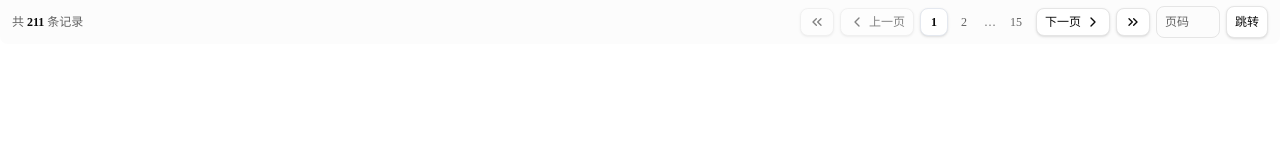
Test: TablePagination 客户端模式（跳页） › 越界页码 999 提交后 clamp 到末页，并显示可见的 aria-live 提示
Type "999" into the number field named "跳至页码".
click(1188, 22); type("999")  # box [1156,6,1220,38]
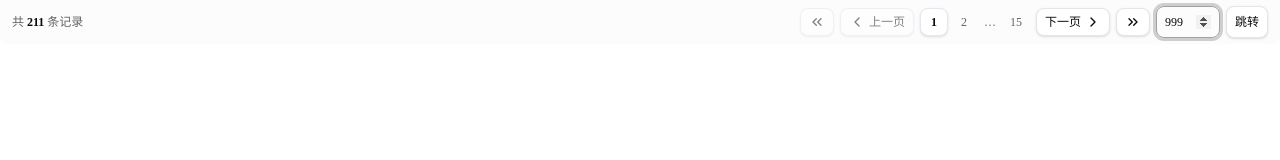
Click the button "跳转".
click(1247, 22)  # box [1226,6,1268,38]
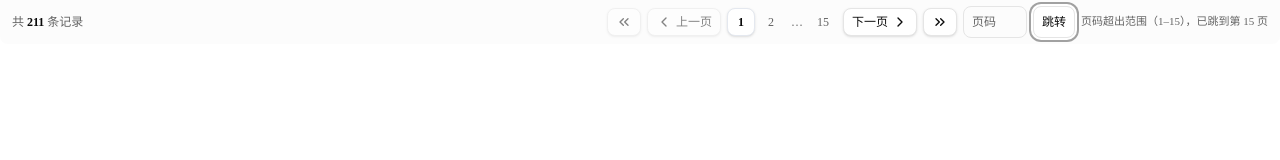
Result: the message reads "页码超出范围（1–15），已跳到第 15 页" at [1081,15,1268,27]
